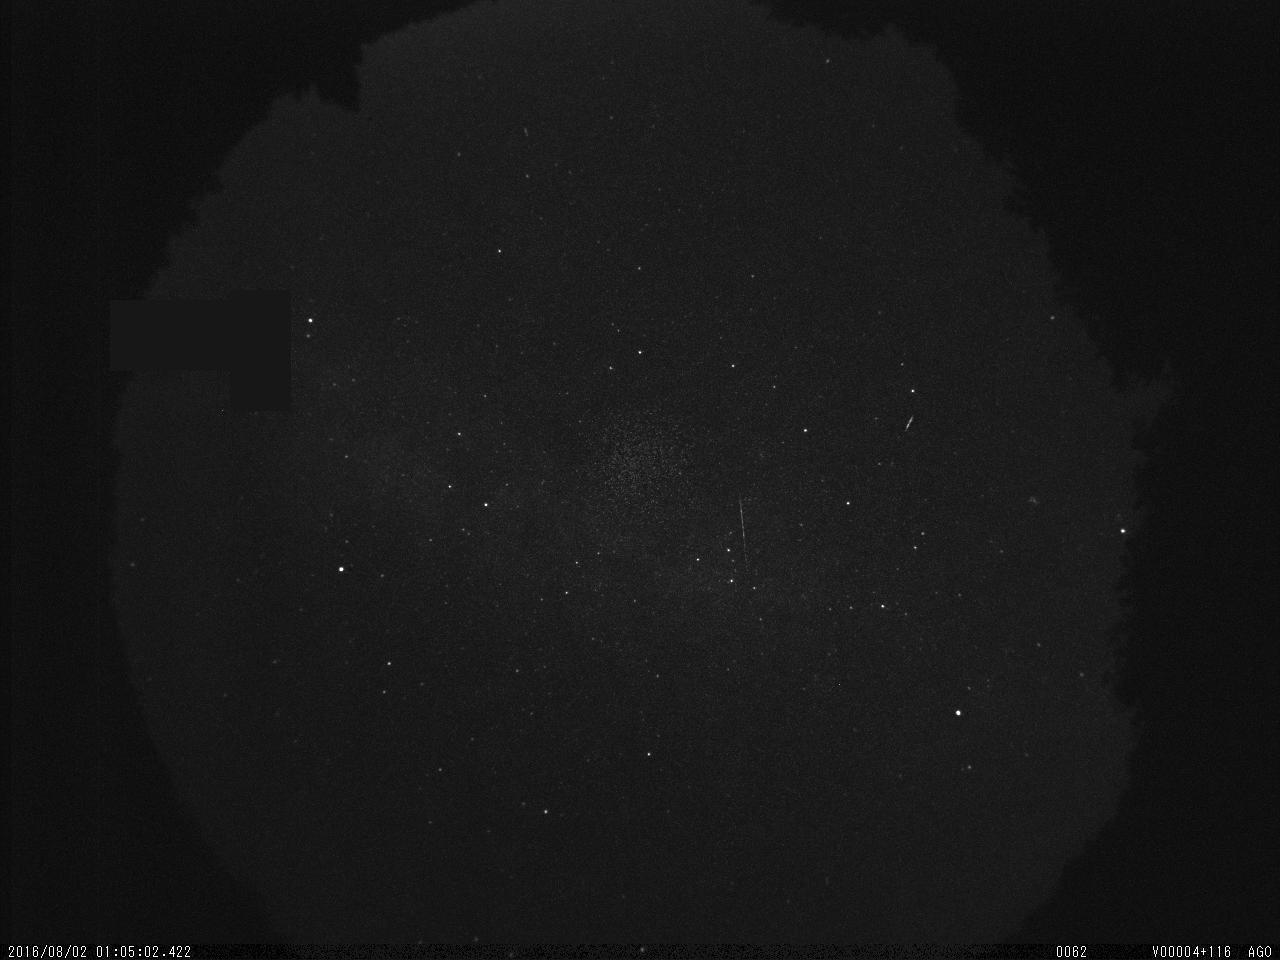meteor: (899, 402, 925, 447)
